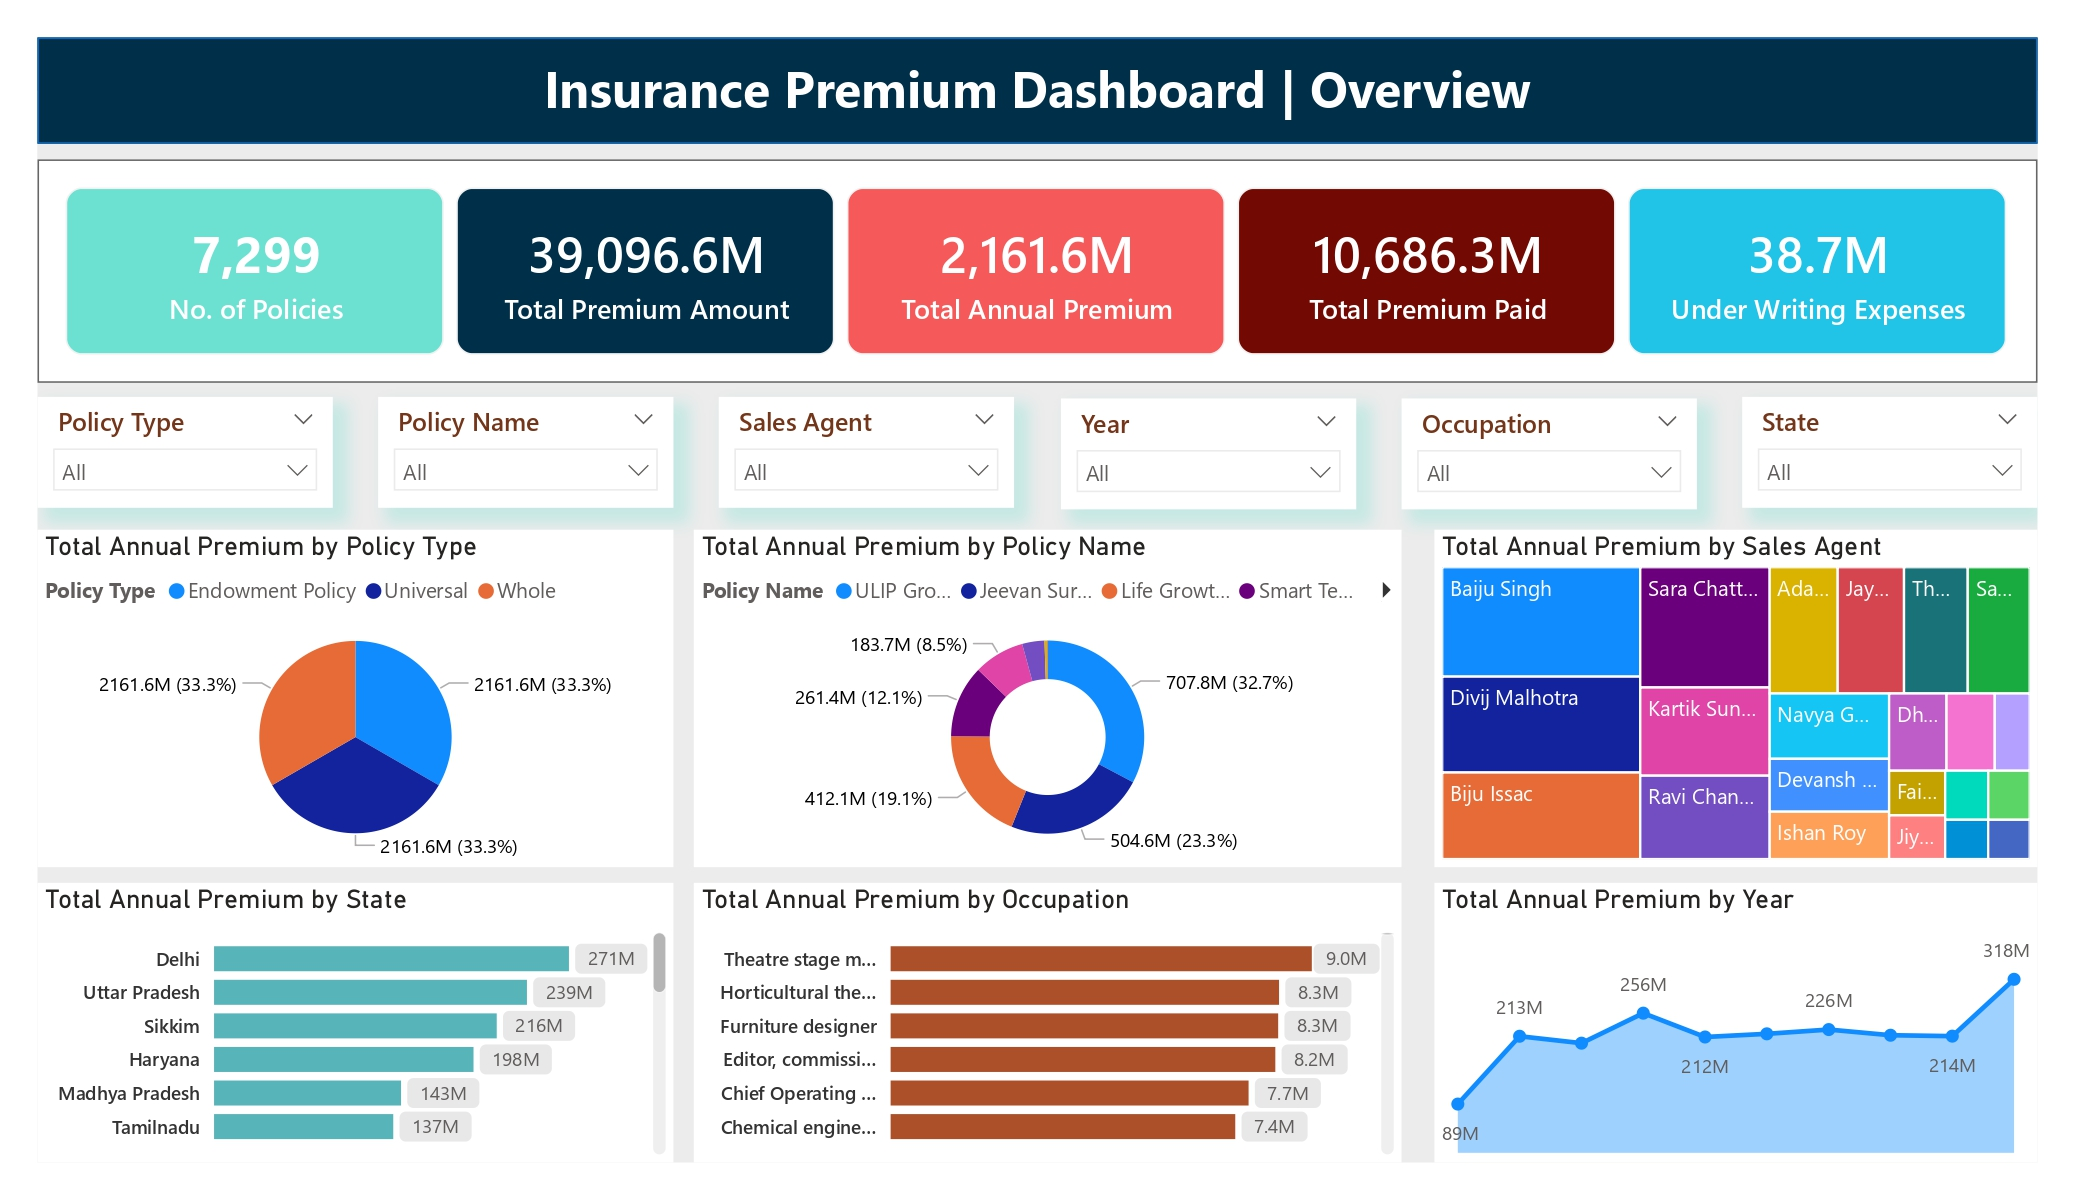

What the dashboard file says about the page in this screenshot:
{"tool":"powerbi","page":{"name":"Overview","canvas":[1280,720],"ordinal":1},"visuals":[{"type":"slicer","fields":{"Values":["DM Policy_Protection_Plan.Policy Name"]},"box":[218.2,230.1,189.1,70.9],"z":0},{"type":"shape","box":[0,0,1280,68.4],"z":1000,"group":"g1"},{"type":"slicer","fields":{"Values":["DM Policy_Type.Policy Type"]},"box":[0,230.1,189.1,70.9],"z":1000},{"type":"textbox","box":[311,5,658.1,58.5],"z":2000,"group":"g1"},{"type":"slicer","fields":{"Values":["DM Insurance_Agent_Table.Sales Agent"]},"box":[436.4,230.1,189.1,70.9],"z":2000},{"type":"slicer","fields":{"Values":["FCT Insurance_Policy_Table.Date of Purchase.Variation.Date Hierarchy.Year"]},"box":[654.6,231.4,189.1,70.9],"z":3000},{"type":"slicer","fields":{"Values":["DM Customer_Detail_Table.State"]},"box":[1090.9,230.1,189.1,70.9],"z":4000},{"type":"slicer","fields":{"Values":["DM Customer_Detail_Table.Occupation"]},"box":[872.7,231.4,189.1,70.9],"z":5000},{"type":"pieChart","fields":{"Y":["Sum(FCT Insurance_Policy_Table.Total Annual Premium)"],"Category":["DM Policy_Type.Policy Type"]},"box":[0,314.7,406.8,216.4],"z":6000},{"type":"donutChart","fields":{"Y":["Sum(FCT Insurance_Policy_Table.Total Annual Premium)"],"Category":["DM Policy_Protection_Plan.Policy Name"]},"box":[420.5,314.7,452.8,216.4],"z":7000},{"type":"treemap","fields":{"Values":["Sum(FCT Insurance_Policy_Table.Total Annual Premium)"],"Group":["DM Insurance_Agent_Table.Sales Agent"]},"box":[894.4,314.7,385.6,216.4],"z":8000},{"type":"cardVisual","fields":{"Data":["CountNonNull(DM Customer_Detail_Table.Customer ID)","Sum(FCT Insurance_Policy_Table.Total Premium Amount)","Sum(FCT Insurance_Policy_Table.Total Annual Premium)","Sum(FCT Insurance_Policy_Table.Total Premium Paid)","FCT Insurance_Policy_Table.Under Writing Expenses"]},"box":[0,78.4,1280,143.1],"z":9000},{"type":"clusteredBarChart","fields":{"Category":["DM Customer_Detail_Table.State"],"Y":["Sum(FCT Insurance_Policy_Table.Total Annual Premium)"]},"box":[0,541,407,179],"z":10000},{"type":"clusteredBarChart","fields":{"Y":["Sum(FCT Insurance_Policy_Table.Total Annual Premium)"],"Category":["DM Customer_Detail_Table.Occupation"]},"box":[420.5,541.1,452.8,179.1],"z":11000},{"type":"areaChart","fields":{"Category":["FCT Insurance_Policy_Table.Start Date.Variation.Date Hierarchy.Year"],"Y":["Sum(FCT Insurance_Policy_Table.Total Annual Premium)"]},"box":[894.4,541.1,385.6,179.1],"z":12000},{"type":"group","id":"g1","title":"Group 1","box":[0,0,1280,68.4],"z":13000}]}

Visuals, with their boxes on the page's 1280x720 design canvas (x1, y1, x2, y2). These are canvas units, not pixel positions in the 2075x1200 screenshot, which may show the page scaled, cropped or inside an application window:
slicer - DM Policy_Protection_Plan.Policy Name: BBox(218, 230, 407, 301)
shape: BBox(0, 0, 1280, 68)
slicer - DM Policy_Type.Policy Type: BBox(0, 230, 189, 301)
textbox: BBox(311, 5, 969, 64)
slicer - DM Insurance_Agent_Table.Sales Agent: BBox(436, 230, 626, 301)
slicer - FCT Insurance_Policy_Table.Date of Purchase.Variation.Date Hierarchy.Year: BBox(655, 231, 844, 302)
slicer - DM Customer_Detail_Table.State: BBox(1091, 230, 1280, 301)
slicer - DM Customer_Detail_Table.Occupation: BBox(873, 231, 1062, 302)
pieChart - Sum(FCT Insurance_Policy_Table.Total Annual Premium) x DM Policy_Type.Policy Type: BBox(0, 315, 407, 531)
donutChart - Sum(FCT Insurance_Policy_Table.Total Annual Premium) x DM Policy_Protection_Plan.Policy Name: BBox(420, 315, 873, 531)
treemap - Sum(FCT Insurance_Policy_Table.Total Annual Premium) x DM Insurance_Agent_Table.Sales Agent: BBox(894, 315, 1280, 531)
cardVisual - CountNonNull(DM Customer_Detail_Table.Customer ID) x Sum(FCT Insurance_Policy_Table.Total Premium Amount): BBox(0, 78, 1280, 222)
clusteredBarChart - DM Customer_Detail_Table.State x Sum(FCT Insurance_Policy_Table.Total Annual Premium): BBox(0, 541, 407, 720)
clusteredBarChart - Sum(FCT Insurance_Policy_Table.Total Annual Premium) x DM Customer_Detail_Table.Occupation: BBox(420, 541, 873, 720)
areaChart - FCT Insurance_Policy_Table.Start Date.Variation.Date Hierarchy.Year x Sum(FCT Insurance_Policy_Table.Total Annual Premium): BBox(894, 541, 1280, 720)
"Group 1" group: BBox(0, 0, 1280, 68)
